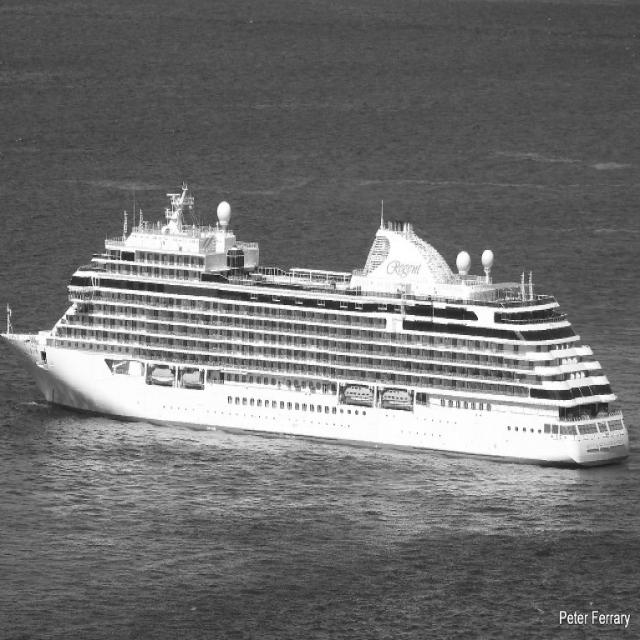cruises: (1, 172, 640, 481)
